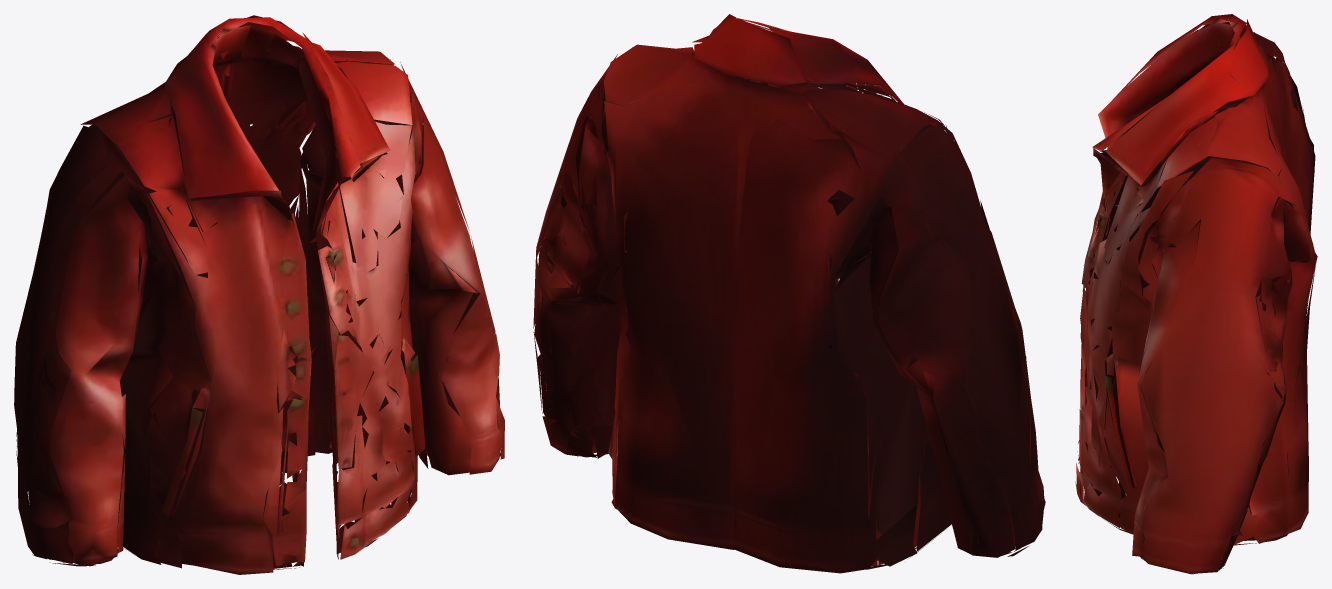
File: chaqueta_diego.movil.glb
3 views of the same model, side by side, from view 1: azimuth 30°, elevation 25°; view 2: azimuth 150°, elevation 25°; view 3: azimuth 270°, elevation 25° (orthographic). The views are drawn at different scales.
Visible parts, largest first — view 1: geometry_0; view 2: geometry_0; view 3: geometry_0.
Part boxes in pixels (x1,y1,x2,y2): geometry_0: [14, 15, 504, 574]; geometry_0: [533, 14, 1045, 573]; geometry_0: [1075, 14, 1317, 574].
Bounding box in the file's own units: 1.01 × 1 × 0.4764.
Materials: 1 (1 with a texture image).
